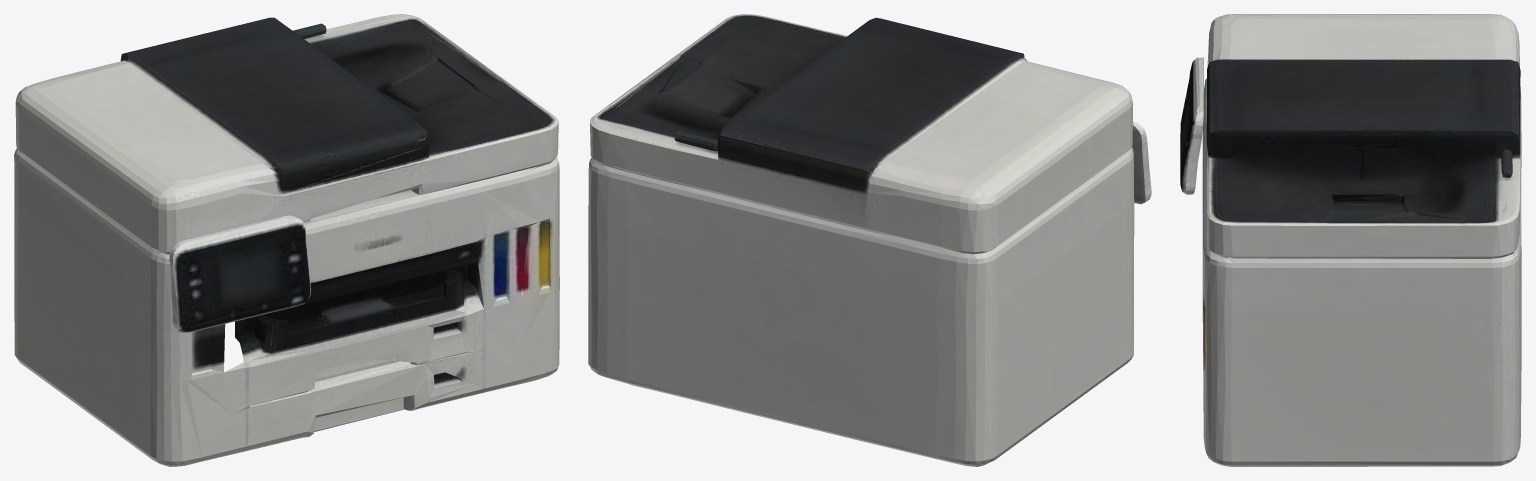
File: printer-artist.glb
3 views of the same model, side by side, from view 1: azimuth 30°, elevation 25°; view 2: azimuth 150°, elevation 25°; view 3: azimuth 270°, elevation 25° (orthographic).
Size of the model in its own units: 1.89 by 1.26 by 1.4.
Materials: 1 (1 with a texture image).
